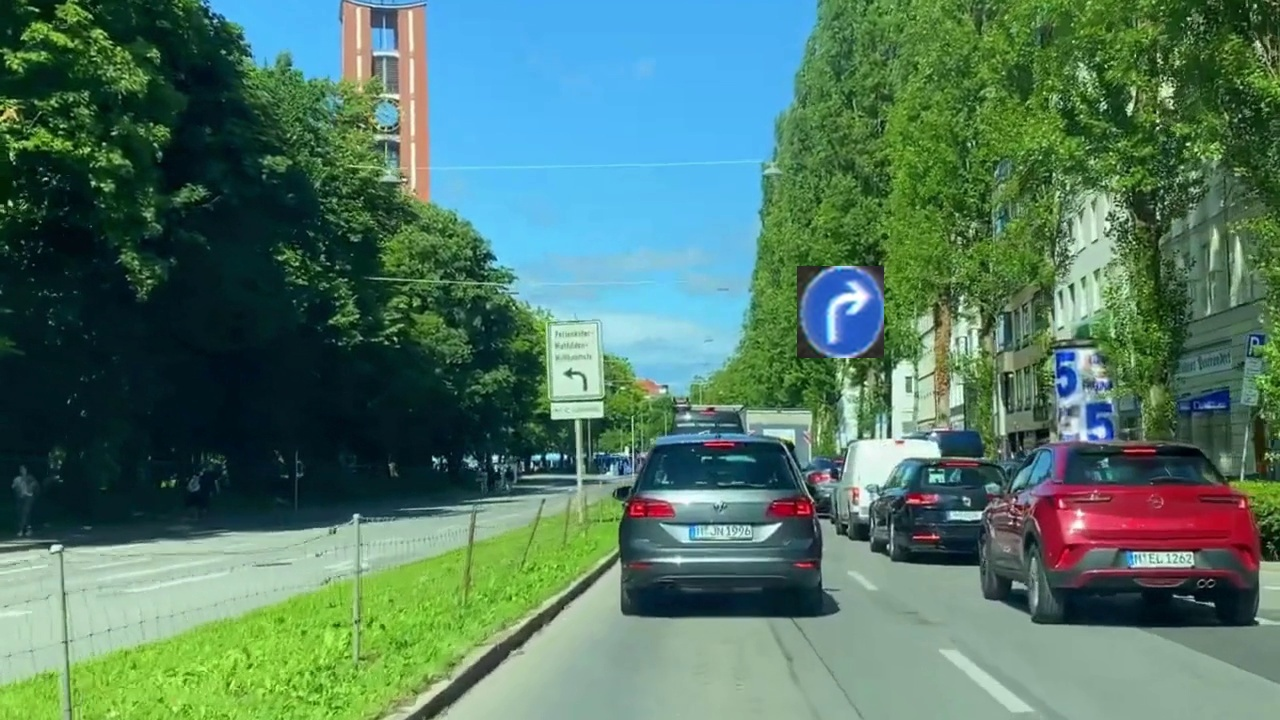Turn right: (797, 266, 884, 358)
